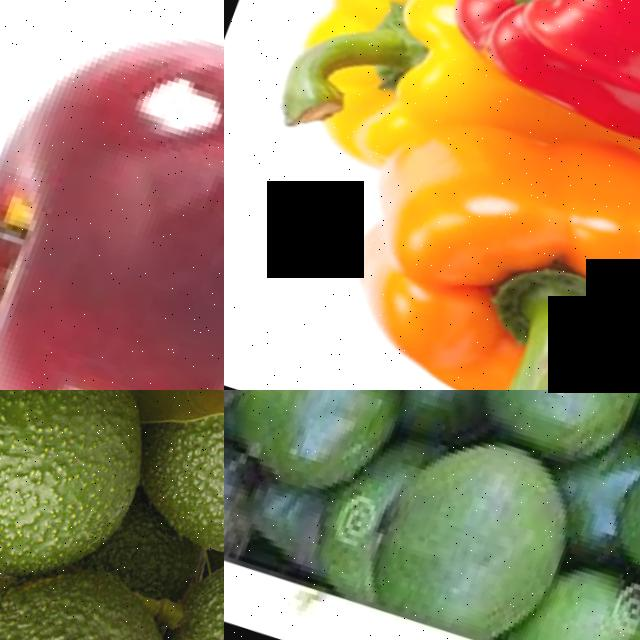apple: (0, 0, 224, 390)
avocado: (367, 416, 597, 640), (0, 390, 171, 612), (224, 390, 424, 528), (113, 390, 224, 599), (0, 537, 197, 640), (467, 390, 640, 492), (510, 543, 640, 640), (224, 421, 288, 572), (596, 426, 640, 631), (224, 390, 283, 447)
bell pepper: (323, 98, 640, 390), (224, 0, 496, 201), (445, 0, 640, 213)
